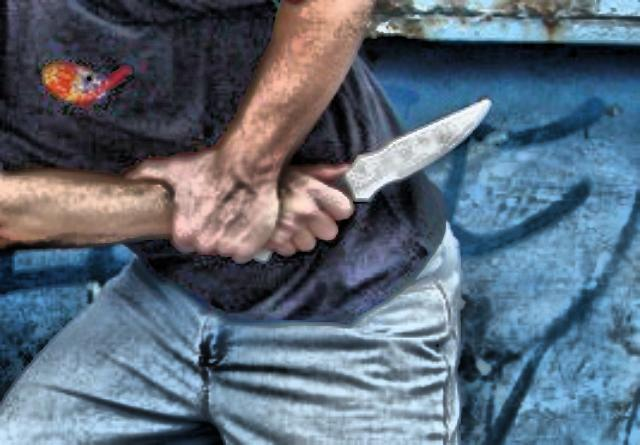knife: (281, 90, 491, 256)
